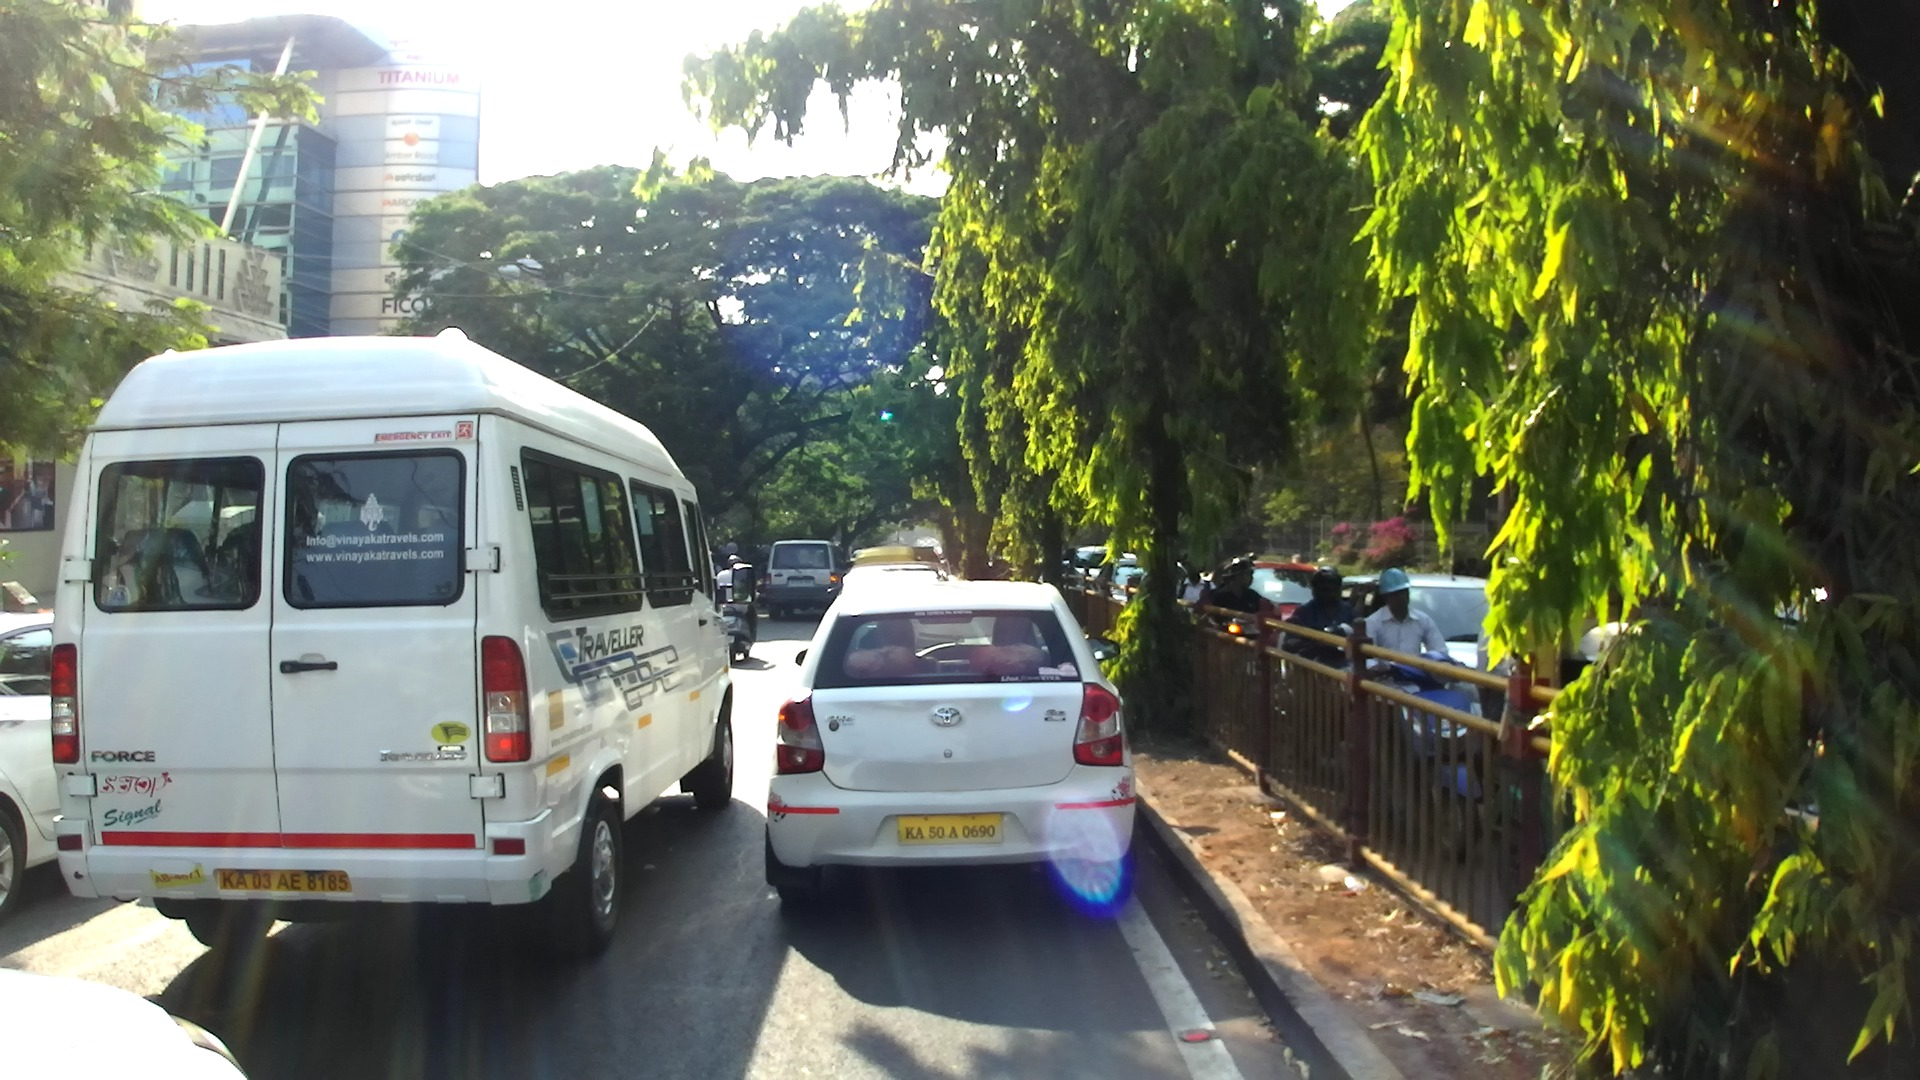autorickshaw: (849, 547, 942, 568)
bus: (47, 330, 756, 953)
car: (761, 579, 1137, 910), (1341, 573, 1524, 731), (2, 970, 244, 1080), (0, 607, 74, 922), (1208, 560, 1332, 643), (768, 541, 842, 619), (843, 564, 951, 589), (1062, 544, 1113, 587), (1108, 552, 1144, 600)
motorcycle: (1369, 649, 1492, 865), (1287, 614, 1360, 670), (719, 594, 758, 661), (1212, 609, 1274, 637), (756, 571, 768, 606)
person: (1177, 563, 1215, 615), (712, 540, 728, 571), (726, 536, 739, 561)
rider: (1351, 566, 1466, 693), (1283, 566, 1363, 649), (1202, 557, 1273, 623), (716, 555, 760, 610), (1193, 568, 1225, 609), (707, 551, 723, 604), (1464, 557, 1484, 576), (754, 555, 767, 582), (1453, 556, 1466, 574), (1290, 551, 1303, 562)
traffic light: (879, 408, 895, 422)
vehicle fallback: (1562, 615, 1634, 665), (1173, 553, 1195, 598)
